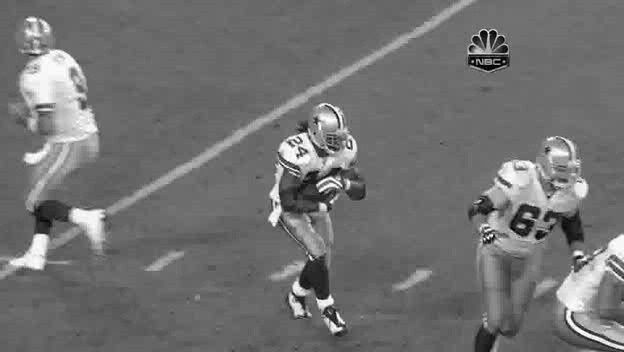person: (310, 102, 349, 152), (309, 102, 348, 152), (311, 102, 350, 152), (310, 101, 349, 151), (310, 103, 349, 153)
target_negative: (187, 87, 383, 331), (303, 54, 484, 288), (247, 116, 606, 129), (133, 11, 251, 32), (17, 84, 81, 112), (304, 258, 312, 304)
